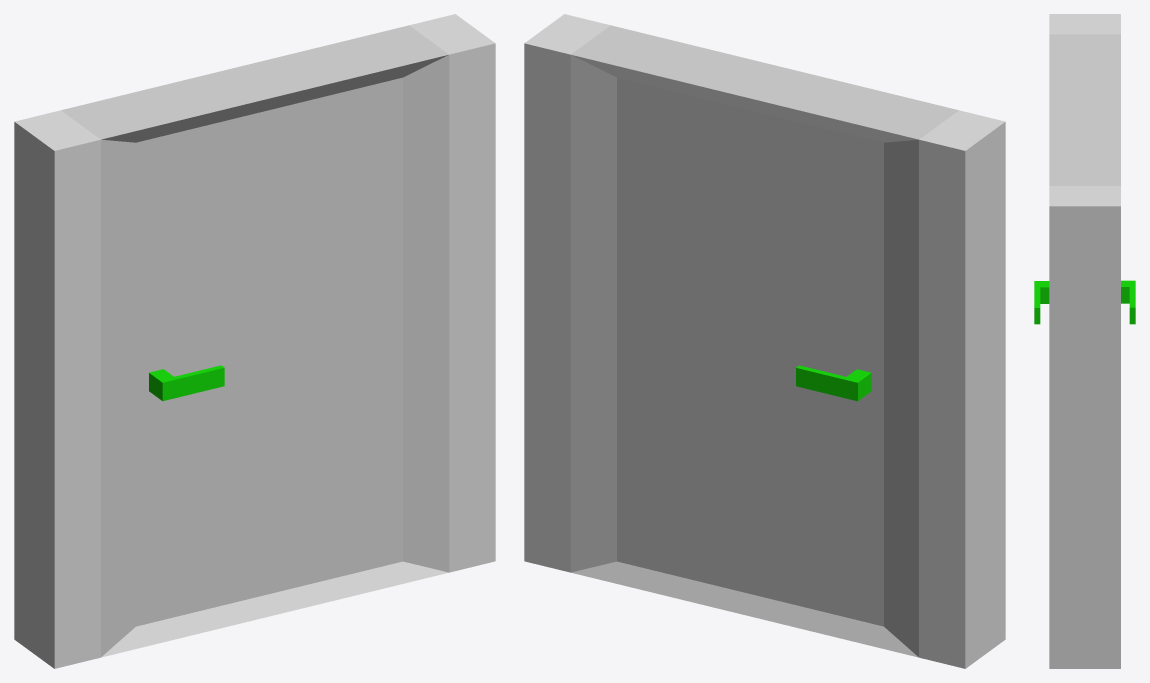
Rendered from inner_door (2).fbx.
3 views of the same model, side by side, from view 1: azimuth 30°, elevation 25°; view 2: azimuth 150°, elevation 25°; view 3: azimuth 270°, elevation 25° (orthographic). The views are drawn at different scales.
Visible parts, largest first — view 1: Cube.036, Cube.045, Cube.047; view 2: Cube.036, Cube.045, Cube.047; view 3: Cube.045, Cube.036, Cube.047.
Part boxes in pixels (<box>): Cube.036: <box>61,25,449,657</box>; Cube.045: <box>14,14,495,668</box>; Cube.047: <box>149,365,224,400</box>; Cube.036: <box>570,25,958,657</box>; Cube.045: <box>524,14,1005,668</box>; Cube.047: <box>796,365,871,401</box>; Cube.045: <box>1049,14,1120,668</box>; Cube.036: <box>1049,34,1120,185</box>; Cube.047: <box>1034,280,1135,324</box>.
Bounding box in the file's own units: 19.04 × 21.37 × 4.24.
